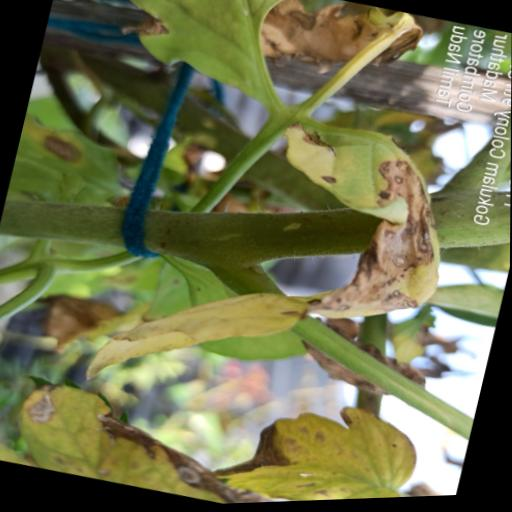Early Blight: (83, 82, 472, 452), (2, 363, 314, 512), (205, 378, 429, 506)
